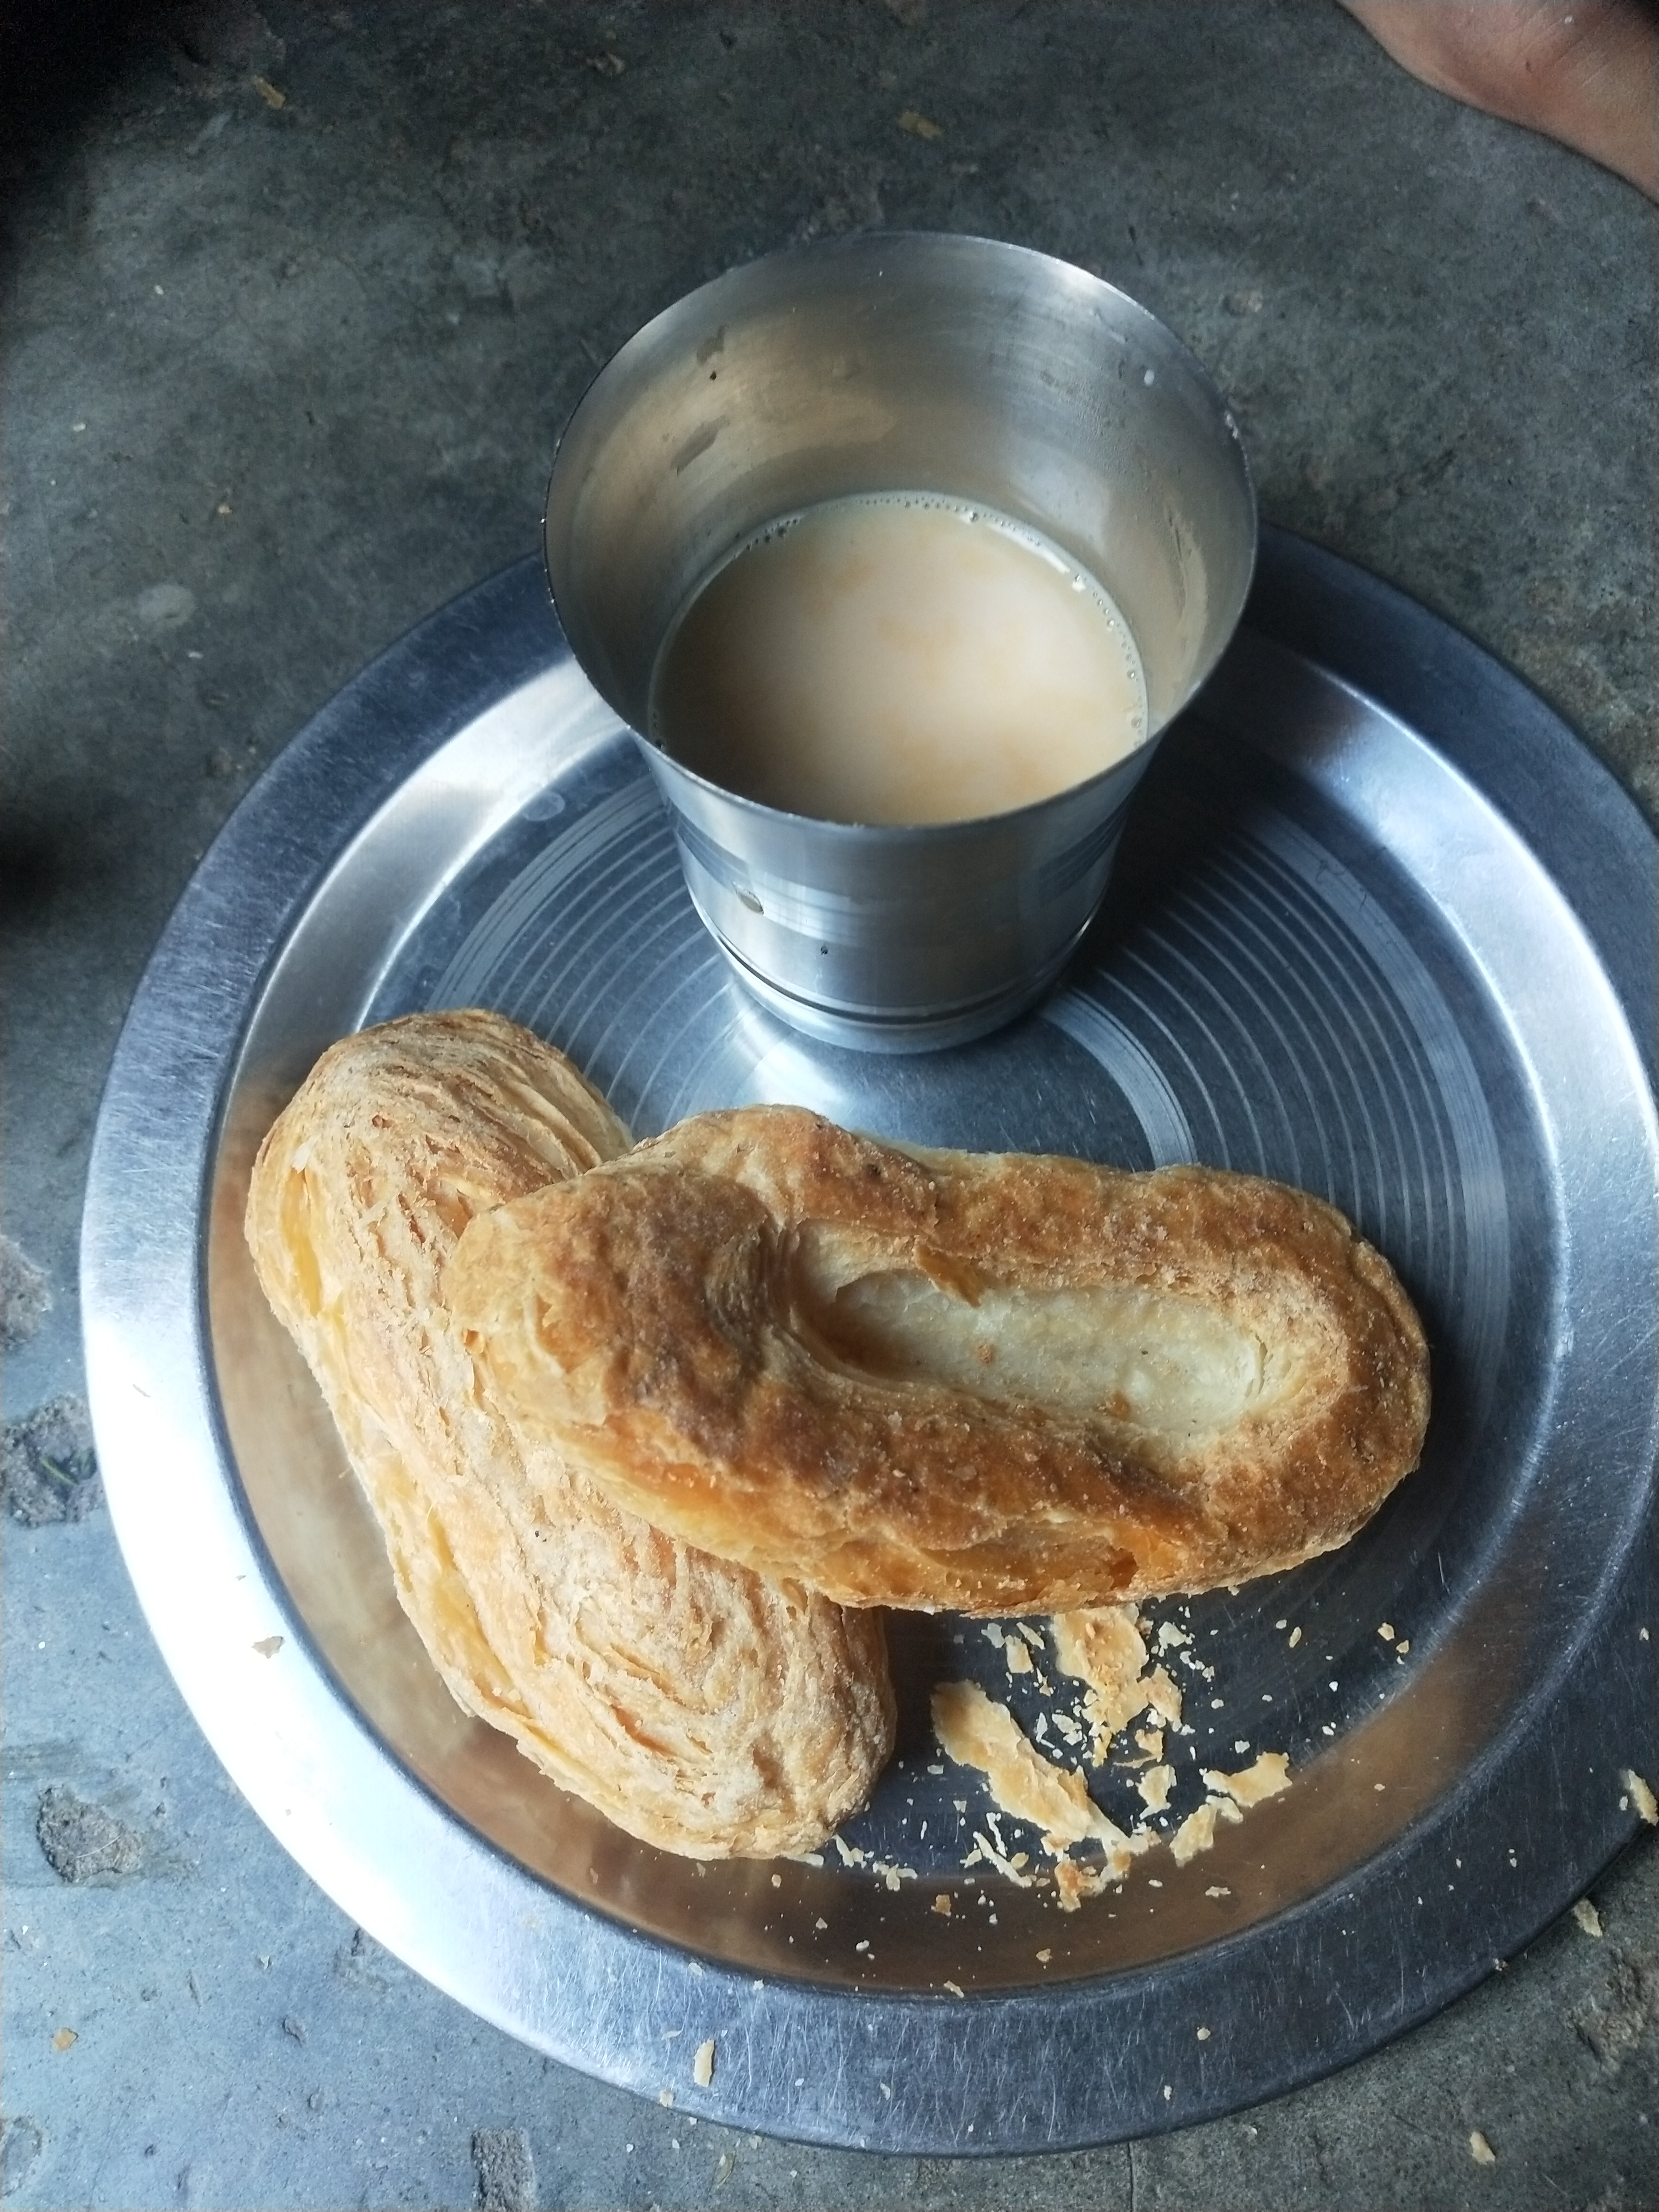food: (234, 209, 1445, 1919)
